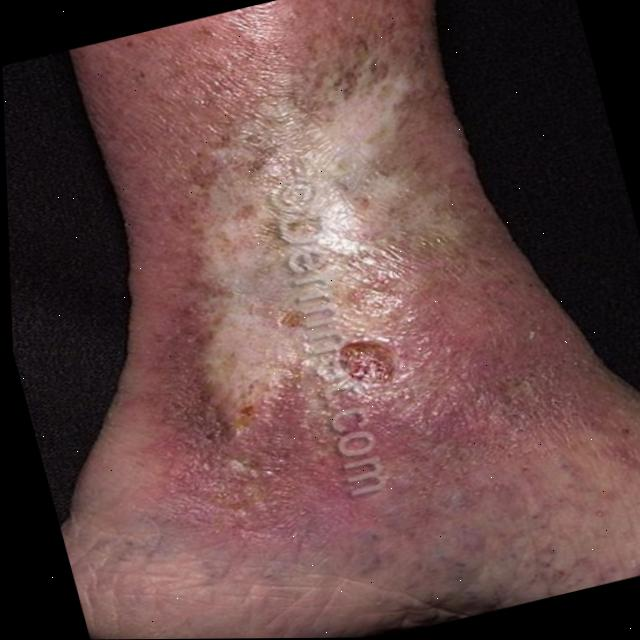Eczema: (114, 21, 522, 437)
